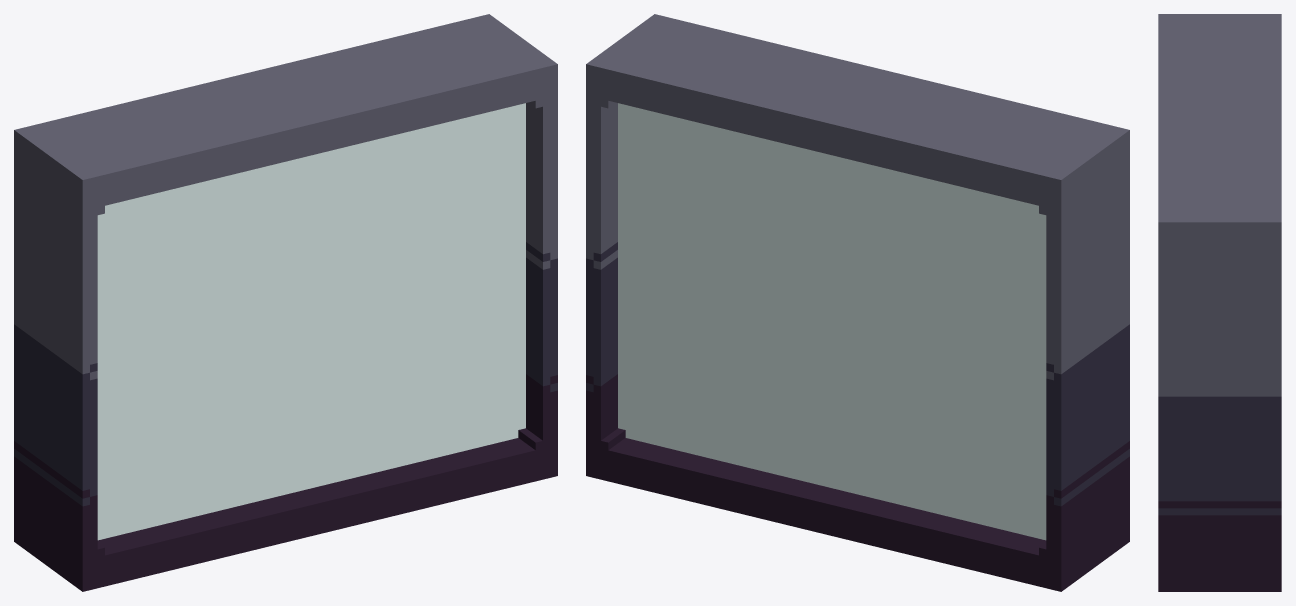
The model's file is pc_ekrani.fbx.
3 renders of one model, left to right at view 1: azimuth 30°, elevation 25°; view 2: azimuth 150°, elevation 25°; view 3: azimuth 270°, elevation 25°, orthographic. The views are drawn at different scales.
Parts seen in each view (by area): view 1: generated; view 2: generated; view 3: generated.
Part boxes in pixels (box(x1,y1,x2,y2)): generated: box(14, 14, 557, 591); generated: box(586, 14, 1129, 591); generated: box(1158, 14, 1281, 591).
Size of the model in its own units: 640 by 530 by 160.
